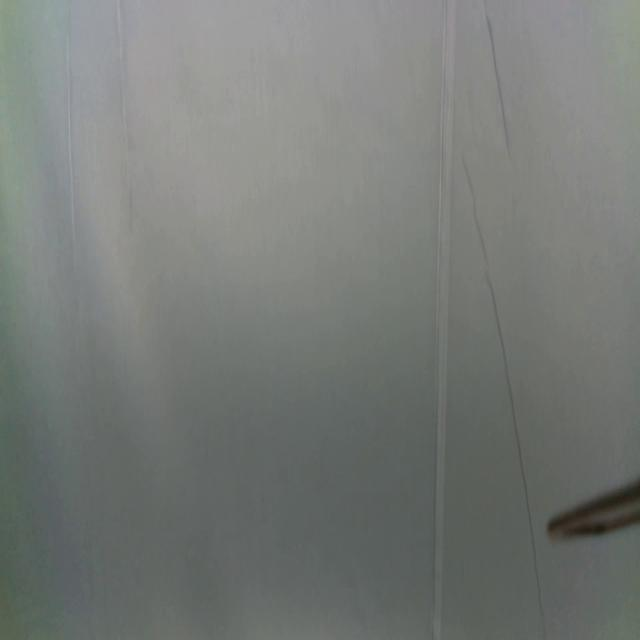crease: (461, 150, 545, 630), (430, 0, 456, 640), (114, 0, 137, 241), (65, 18, 81, 299), (483, 2, 512, 154)
